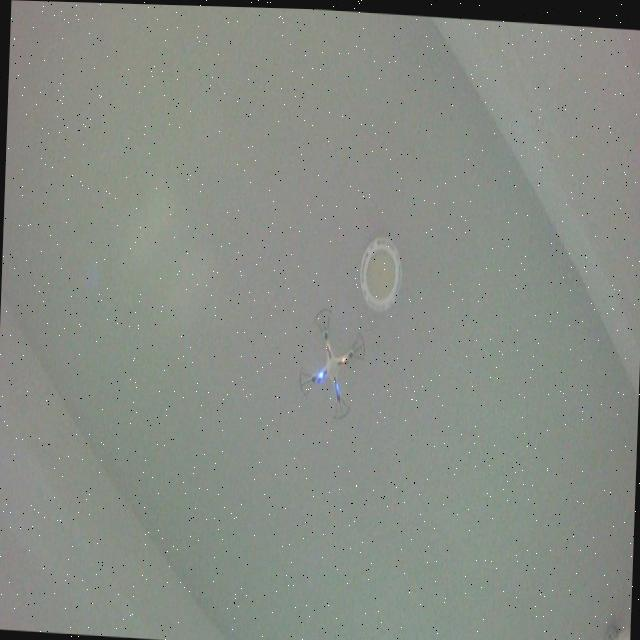drone: (296, 302, 370, 424)
